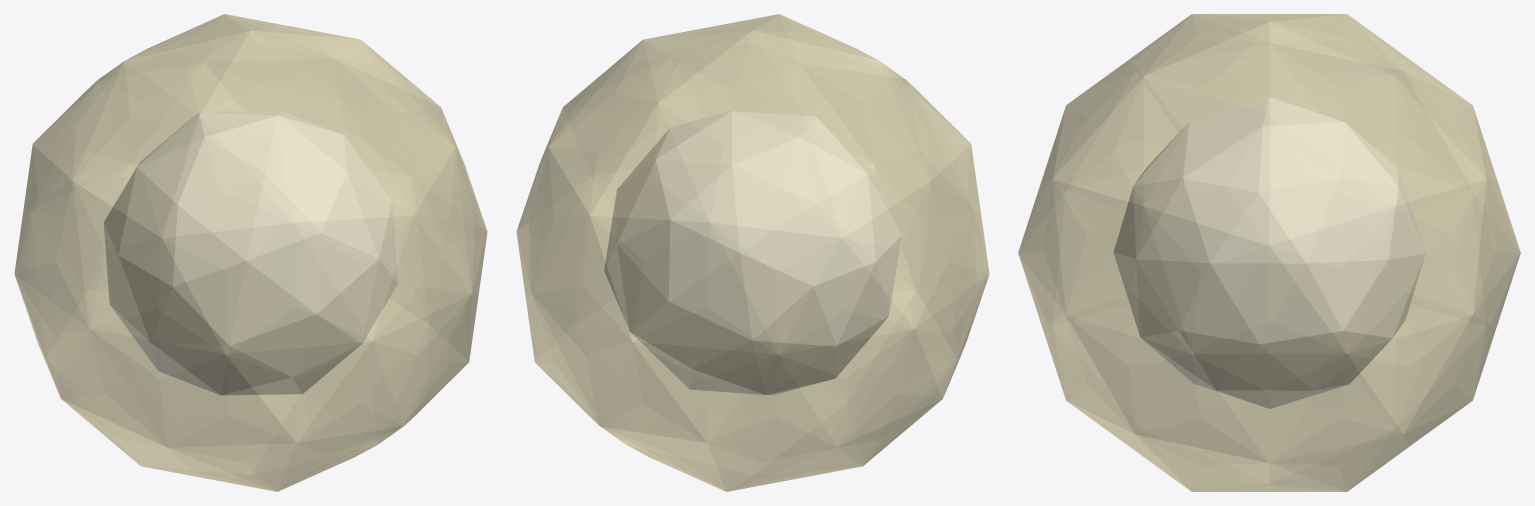
The model's file is Photon_NPC.fbx.
The picture shows the model from 3 angles, left to right: view 1: azimuth 30°, elevation 25°; view 2: azimuth 150°, elevation 25°; view 3: azimuth 270°, elevation 25°; orthographic projection. The views are drawn at different scales.
Parts seen in each view (by area): view 1: Икосфера, Икосфера.001; view 2: Икосфера, Икосфера.001; view 3: Икосфера, Икосфера.001.
Part boxes in pixels (bbox=[...]): Икосфера: bbox=[14, 14, 487, 491]; Икосфера.001: bbox=[103, 110, 398, 395]; Икосфера: bbox=[516, 14, 989, 491]; Икосфера.001: bbox=[604, 111, 901, 394]; Икосфера: bbox=[1018, 14, 1520, 491]; Икосфера.001: bbox=[1113, 97, 1425, 408].
Bounding box in the file's own units: 194 × 207 × 204.
